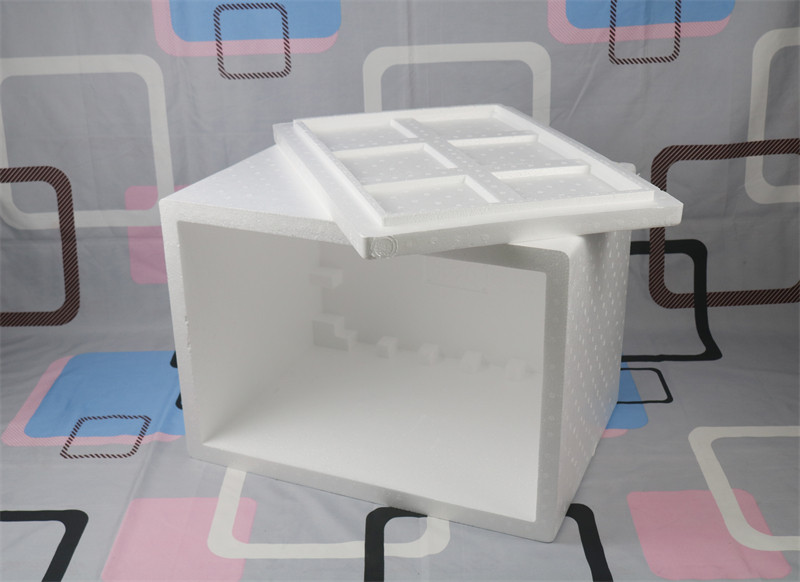Boxes: (161, 107, 657, 539)
